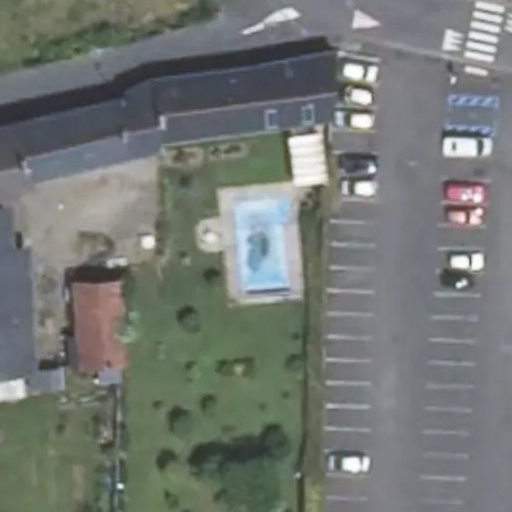pool: (228, 200, 288, 284)
